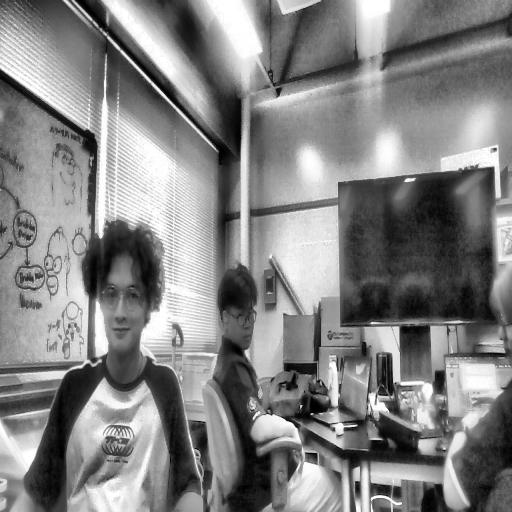Daifuku: (89, 219, 163, 356)
Not Daifuku: (216, 266, 262, 356), (493, 277, 512, 378)
